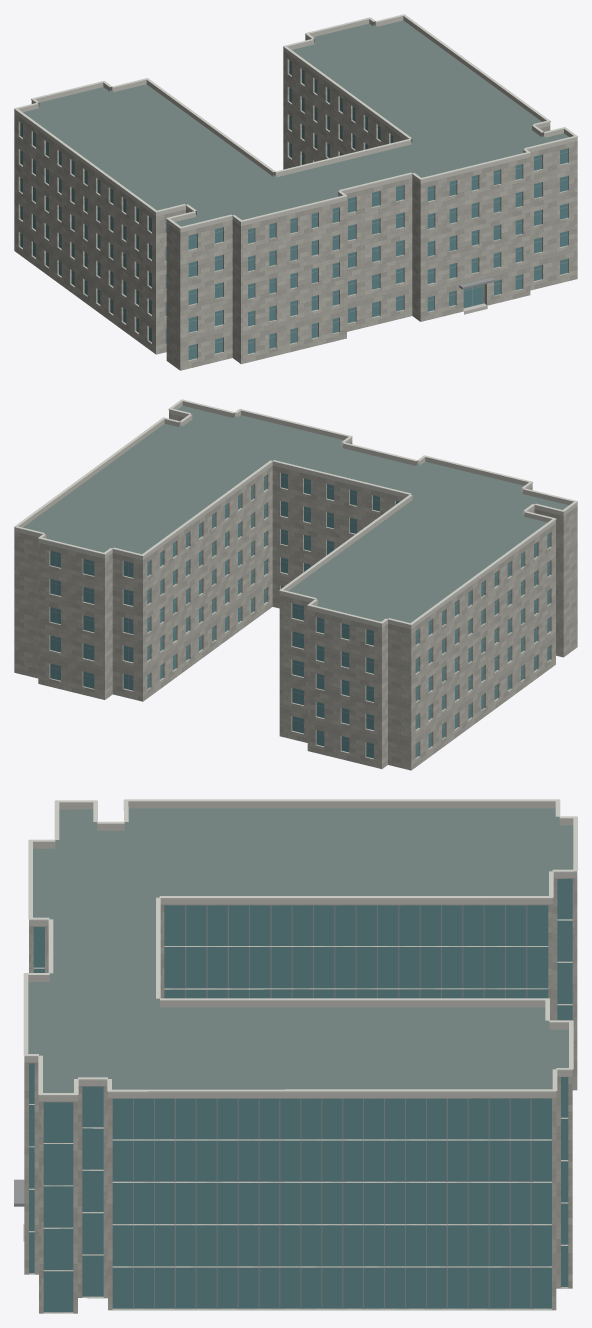
3 views of the same model, one above another, from view 1: azimuth 30°, elevation 25°; view 2: azimuth 150°, elevation 25°; view 3: azimuth 270°, elevation 25° (orthographic). The views are drawn at different scales.
Visible parts, largest first — view 1: law__wall, law__roof, law__glass, law__parapet, law__trim, law__frame; view 2: law__wall, law__roof, law__glass, law__parapet, law__trim, law__frame; view 3: law__glass, law__roof, law__wall, law__parapet, law__trim, law__frame.
Boxes of the visible parts, x1,y1,x2,y2 form: law__wall: (14, 38, 577, 370); law__roof: (15, 20, 576, 370); law__glass: (20, 60, 568, 359); law__parapet: (14, 16, 577, 232); law__trim: (14, 14, 577, 228); law__frame: (20, 62, 568, 349); law__wall: (14, 414, 577, 770); law__roof: (16, 406, 574, 770); law__glass: (50, 473, 549, 758); law__parapet: (14, 401, 577, 629); law__trim: (14, 399, 577, 625); law__frame: (50, 476, 550, 747); law__glass: (29, 878, 572, 1312); law__roof: (28, 808, 576, 1310); law__wall: (24, 878, 577, 1313); law__parapet: (24, 801, 577, 1101); law__trim: (23, 799, 577, 1096); law__frame: (133, 905, 531, 1308).
Bounding box in the file's own units: 53.92 × 19 × 43.44.
Materials: 9 (1 with a texture image).
